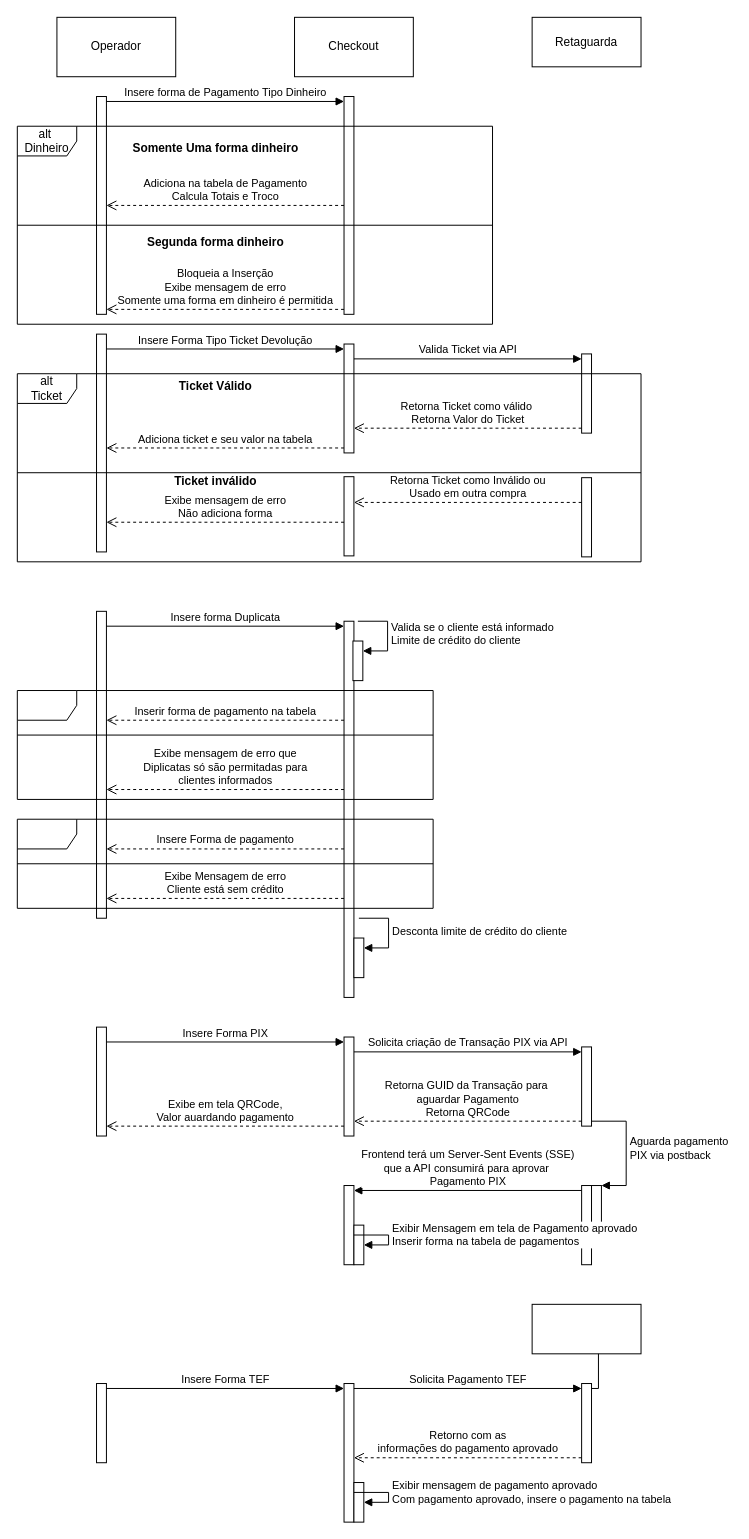
This 749x1539 diagram has some shape labels left out. Here are the shapes that lost their labels. From the top down, the centre of each, then its label:
At (224,744): "Alt Cliente informado".
At (224,863): "Alt Crédito Cliente".
At (586,1328): "TEF".
